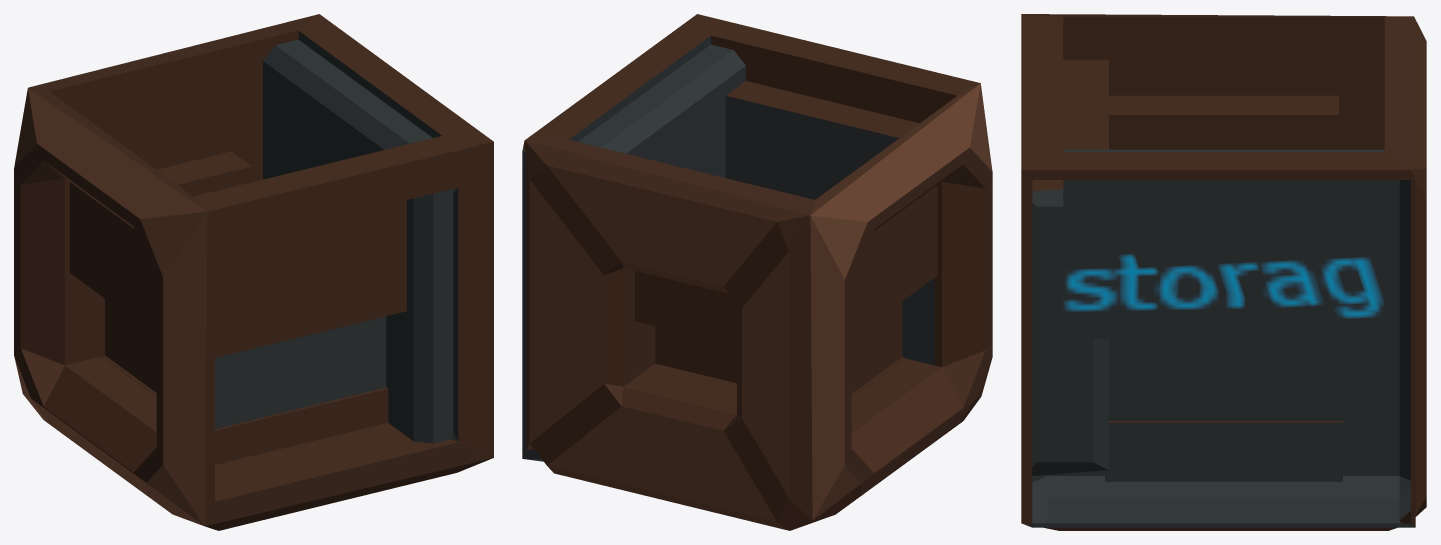
The model's file is Storag.fbx.
The picture shows the model from 3 angles, left to right: view 1: azimuth 30°, elevation 25°; view 2: azimuth 150°, elevation 25°; view 3: azimuth 270°, elevation 25°; orthographic projection. The views are drawn at different scales.
Visible parts, largest first — view 1: Cube; view 2: Cube; view 3: Cube.
Boxes of the visible parts, x1,y1,x2,y2 form: Cube: (14, 14, 493, 530); Cube: (522, 14, 992, 530); Cube: (1021, 14, 1426, 530).
Bounding box in the file's own units: 200 × 200 × 200.
